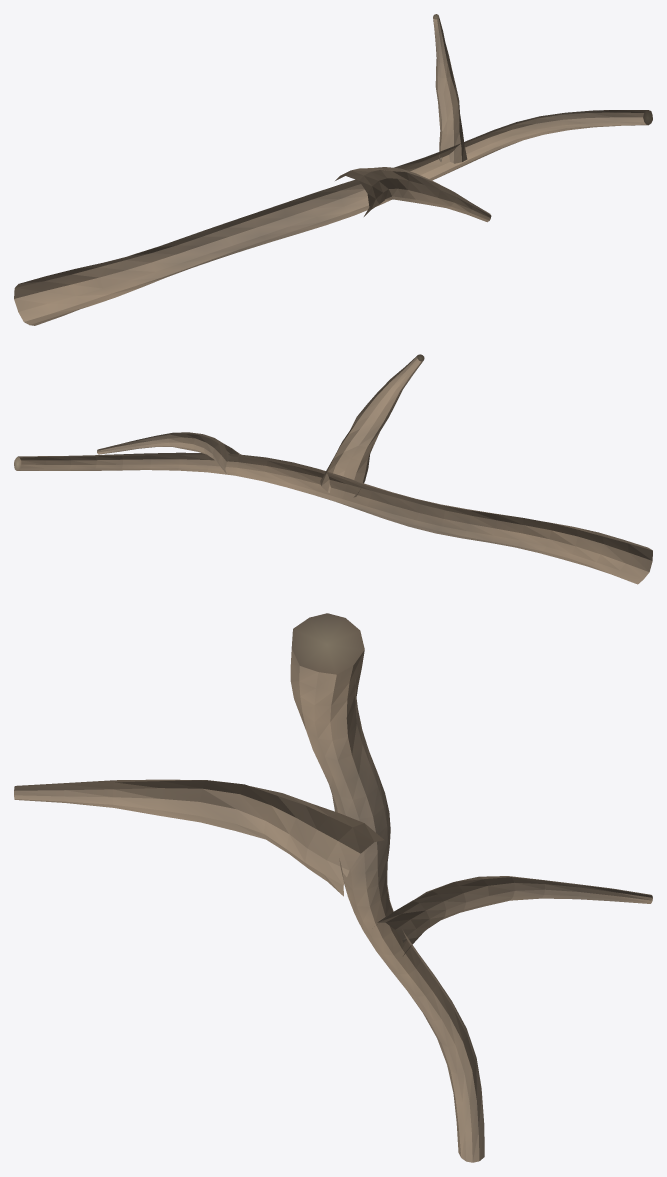
File: stick_forest_01_twig.glb
3 renders of one model, top to bottom at view 1: azimuth 30°, elevation 25°; view 2: azimuth 150°, elevation 25°; view 3: azimuth 270°, elevation 25°, orthographic. The views are drawn at different scales.
Visible parts, largest first — view 1: stick_forest_01_twig; view 2: stick_forest_01_twig; view 3: stick_forest_01_twig.
Part boxes in pixels (bbox=[...]): stick_forest_01_twig: bbox=[14, 14, 652, 325]; stick_forest_01_twig: bbox=[14, 354, 652, 584]; stick_forest_01_twig: bbox=[14, 613, 652, 1162].
Bounding box in the file's own units: 0.4018 × 0.0603 × 0.2193.
